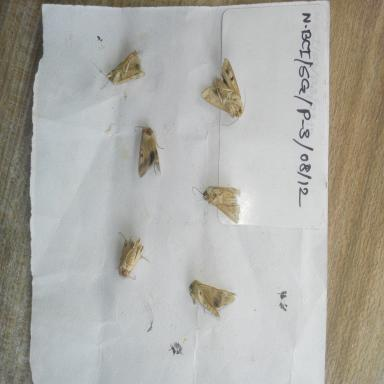abw: (198, 55, 252, 130), (88, 43, 148, 96), (186, 271, 242, 324), (190, 179, 244, 229), (113, 224, 154, 288), (131, 117, 168, 183)
